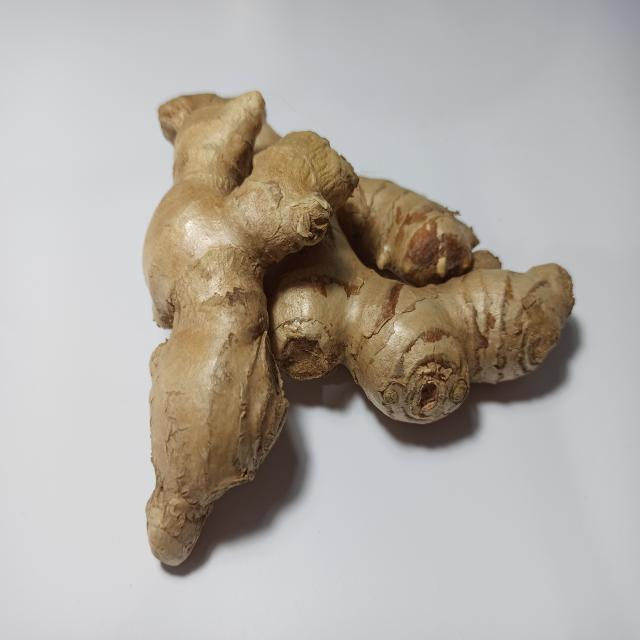ginger: (151, 101, 571, 564)
